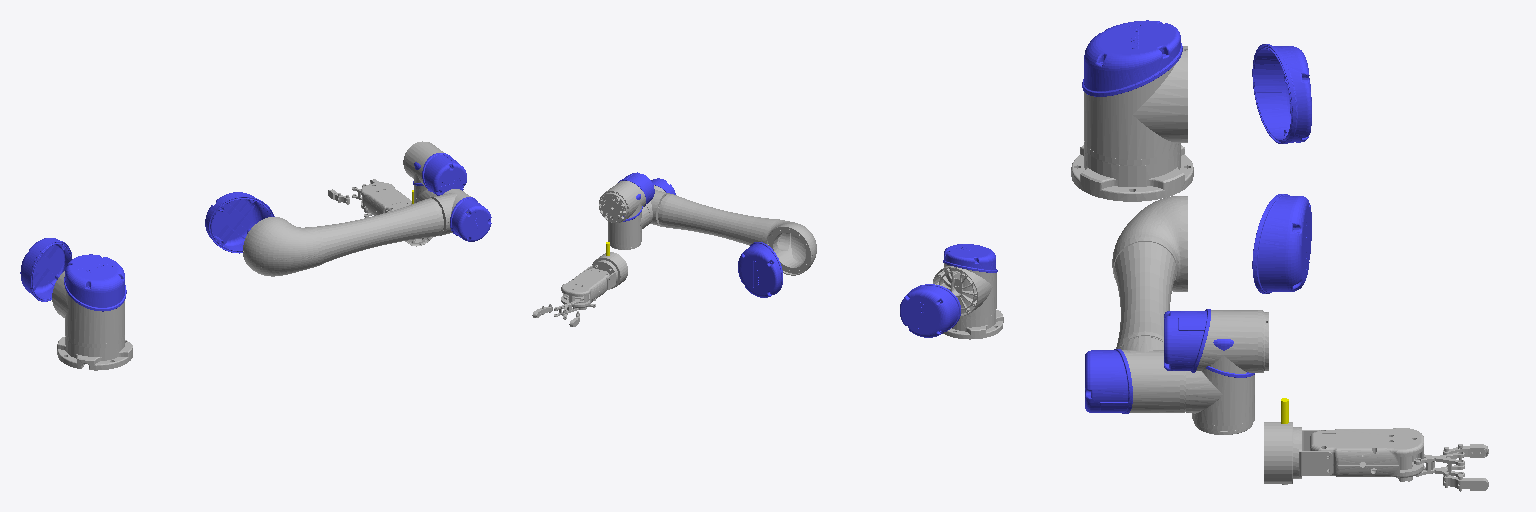
--- Facts derived from the render (not from the file) ---
3 views of the same robot in one strip: view 1: azimuth 30°, elevation 25°; view 2: azimuth 150°, elevation 25°; view 3: azimuth 270°, elevation 25° (orthographic).
Robot: gcr5g_description — 20 links, 19 joints (12 revolute, 7 fixed); root link base_link; default pose: all joints at 0.
Visible links, largest first — view 1: Link3, Link2_1, Link1_1, Link1, base_link, Link5_1, Link3_1, Link_gripper, Link5; view 2: Link3, Link2_1, Link1, Link_gripper, Link5, Link1_1, Link4, base_link; view 3: Link3, Link2_1, Link1, Link_gripper, Link1_1, base_link, Link5, Link4, Link3_1, Link5_1, Link6, Link_gripper1_1.
Boxes of the visible links, x1,y1,x2,y2 form: Link3: (243, 189, 470, 276); Link2_1: (20, 192, 274, 301); Link1_1: (64, 254, 126, 311); Link1: (52, 271, 124, 347); base_link: (57, 336, 132, 370); Link5_1: (422, 153, 466, 195); Link3_1: (450, 197, 491, 241); Link_gripper: (361, 182, 411, 215); Link5: (403, 141, 443, 193); Link3: (646, 185, 816, 275); Link2_1: (738, 242, 960, 337); Link1: (933, 263, 996, 319); Link_gripper: (561, 261, 615, 307); Link5: (599, 181, 645, 224); Link1_1: (943, 244, 997, 272); Link4: (608, 206, 649, 249); base_link: (943, 310, 1003, 339); Link3: (1112, 196, 1187, 412); Link2_1: (1252, 44, 1311, 293); Link1: (1084, 46, 1187, 165); Link_gripper: (1299, 427, 1423, 478); Link1_1: (1082, 20, 1182, 96); base_link: (1071, 145, 1193, 201); Link5: (1196, 310, 1268, 388); Link4: (1186, 369, 1254, 434); Link3_1: (1085, 349, 1132, 413); Link5_1: (1164, 309, 1210, 372); Link6: (1264, 422, 1298, 484); Link_gripper1_1: (1443, 472, 1488, 491).
Size in the robot's own frame: 0.9419 by 0.5014 by 0.228 metres.
Meshes: 19 distinct files referenced, 18 mesh visuals loaded (18 binary STL); not drawn: 1 (reference not matched to a file when rendering).

The robot description file, URDF, robot "gcr5g_description":
<robot
  name="gcr5g_description">
  <link
    name="base_link">
    <inertial>
      <origin
        xyz="0.000635038987172991 0.00052842091907003 0.0145511209757988"
        rpy="0 0 0" />
      <mass
        value="0.235469441856734" />
      <inertia
        ixx="0.000394110583521865"
        ixy="5.7514077247959E-06"
        ixz="1.60882204474908E-06"
        iyy="0.000393537993397388"
        iyz="1.54559410876959E-06"
        izz="0.000750439148761956" />
    </inertial>
    <visual>
      <origin
        xyz="0 0 0"
        rpy="0 0 0" />
      <geometry>
        <mesh
          filename="package://gcr5g_description/meshes/base_link.STL" />
      </geometry>
      <material
        name="">
        <color
          rgba="0.752941176470588 0.752941176470588 0.752941176470588 1" />
      </material>
    </visual>
    <collision>
      <origin
        xyz="0 0 0"
        rpy="0 0 0" />
      <geometry>
        <mesh
          filename="package://gcr5g_description/meshes/base_link.STL" />
      </geometry>
    </collision>
  </link>
  <link
    name="Link1">
    <inertial>
      <origin
        xyz="-2.29833441372716E-05 0.00939807572647894 -0.0223184970920699"
        rpy="0 0 0" />
      <mass
        value="0.287809595237489" />
      <inertia
        ixx="0.00071606792500991"
        ixy="1.00641855398766E-08"
        ixz="9.18285135267826E-08"
        iyy="0.000722346959753427"
        iyz="-8.34715505244834E-05"
        izz="0.000757341762974166" />
    </inertial>
    <visual>
      <origin
        xyz="0 0 0"
        rpy="0 0 0" />
      <geometry>
        <mesh
          filename="package://gcr5g_description/meshes/Link1.STL" />
      </geometry>
      <material
        name="">
        <color
          rgba="0.752941176470588 0.752941176470588 0.752941176470588 1" />
      </material>
    </visual>
    <collision>
      <origin
        xyz="0 0 0"
        rpy="0 0 0" />
      <geometry>
        <mesh
          filename="package://gcr5g_description/meshes/Link1.STL" />
      </geometry>
    </collision>
  </link>
  <joint
    name="Joint1"
    type="revolute">
    <origin
      xyz="0 0 0.10844"
      rpy="0 0 0" />
    <parent
      link="base_link" />
    <child
      link="Link1" />
    <axis
      xyz="0 0 1" />
    <limit
      lower="-3"
      upper="3"
      effort="1"
      velocity="1" />
  </joint>
  <link
    name="Link2">
    <inertial>
      <origin
        xyz="0.212537552875923 -0.01470428645145 1.98361437159233E-06"
        rpy="0 0 0" />
      <mass
        value="0.873895143425123" />
      <inertia
        ixx="0.00205601287417751"
        ixy="1.8943379594929E-07"
        ixz="-2.67099592179899E-06"
        iyy="0.0291535555543656"
        iyz="4.7328418872632E-07"
        izz="0.0291693793399745" />
    </inertial>
    <visual>
      <origin
        xyz="0 0 0"
        rpy="0 0 0" />
      <geometry>
        <mesh
          filename="package://gcr5g_description/meshes/Link2.STL" />
      </geometry>
      <material
        name="">
        <color
          rgba="0.752941176470588 0.752941176470588 0.752941176470588 1" />
      </material>
    </visual>
    <collision>
      <origin
        xyz="0 0 0"
        rpy="0 0 0" />
      <geometry>
        <mesh
          filename="package://gcr5g_description/meshes/Link2.STL" />
      </geometry>
    </collision>
  </link>
  <joint
    name="Joint2"
    type="revolute">
    <origin
      xyz="0 0.1348 0"
      rpy="0 0 0" />
    <parent
      link="Link1" />
    <child
      link="Link2" />
    <axis
      xyz="0 1 0" />
    <limit
      lower="-3.5"
      upper="0.5"
      effort="0"
      velocity="0" />
  </joint>
  <link
    name="Link3">
    <inertial>
      <origin
        xyz="0.161898898549927 -0.111669374007534 -4.78702954956334E-06"
        rpy="0 0 0" />
      <mass
        value="0.63535804916724" />
      <inertia
        ixx="0.000830792154033419"
        ixy="0.000174258514667893"
        ixz="3.2010453240521E-08"
        iyy="0.0165536506287756"
        iyz="1.89430598344166E-07"
        izz="0.0164555364531943" />
    </inertial>
    <visual>
      <origin
        xyz="0 0 0"
        rpy="0 0 0" />
      <geometry>
        <mesh
          filename="package://gcr5g_description/meshes/Link3.STL" />
      </geometry>
      <material
        name="">
        <color
          rgba="0.752941176470588 0.752941176470588 0.752941176470588 1" />
      </material>
    </visual>
    <collision>
      <origin
        xyz="0 0 0"
        rpy="0 0 0" />
      <geometry>
        <mesh
          filename="package://gcr5g_description/meshes/Link3.STL" />
      </geometry>
    </collision>
  </link>
  <joint
    name="Joint3"
    type="revolute">
    <origin
      xyz="0.4251 0 0"
      rpy="0 0 0" />
    <parent
      link="Link2" />
    <child
      link="Link3" />
    <axis
      xyz="0 1 0" />
    <limit
      lower="-3"
      upper="3"
      effort="1"
      velocity="1" />
  </joint>
  <link
    name="Link4">
    <inertial>
      <origin
        xyz="3.79998164479201E-06 0.0669441816664544 -0.0138821420778474"
        rpy="0 0 0" />
      <mass
        value="0.120753251857373" />
      <inertia
        ixx="0.000143656697936511"
        ixy="-3.38738120860365E-07"
        ixz="1.05158778757901E-08"
        iyy="0.000141455509049759"
        iyz="1.28676293739486E-05"
        izz="0.000134599166244764" />
    </inertial>
    <visual>
      <origin
        xyz="0 0 0"
        rpy="0 0 0" />
      <geometry>
        <mesh
          filename="package://gcr5g_description/meshes/Link4.STL" />
      </geometry>
      <material
        name="">
        <color
          rgba="0.752941176470588 0.752941176470588 0.752941176470588 1" />
      </material>
    </visual>
    <collision>
      <origin
        xyz="0 0 0"
        rpy="0 0 0" />
      <geometry>
        <mesh
          filename="package://gcr5g_description/meshes/Link4.STL" />
      </geometry>
    </collision>
  </link>
  <joint
    name="Joint4"
    type="revolute">
    <origin
      xyz="0.3919 -0.09865 0"
      rpy="0 0 0" />
    <parent
      link="Link3" />
    <child
      link="Link4" />
    <axis
      xyz="0 1 0" />
    <limit
      lower="-3.5"
      upper="0.5"
      effort="1"
      velocity="1" />
  </joint>
  <link
    name="Link5">
    <inertial>
      <origin
        xyz="-3.79997911126306E-06 0.0138821420824871 -0.0669441816786919"
        rpy="0 0 0" />
      <mass
        value="0.120753251793781" />
      <inertia
        ixx="0.000143656697905757"
        ixy="1.05158805956512E-08"
        ixz="-3.38738128716387E-07"
        iyy="0.00013459916620674"
        iyz="1.28676293614767E-05"
        izz="0.000141455509055265" />
    </inertial>
    <visual>
      <origin
        xyz="0 0 0"
        rpy="0 0 0" />
      <geometry>
        <mesh
          filename="package://gcr5g_description/meshes/Link5.STL" />
      </geometry>
      <material
        name="">
        <color
          rgba="0.752941176470588 0.752941176470588 0.752941176470588 1" />
      </material>
    </visual>
    <collision>
      <origin
        xyz="0 0 0"
        rpy="0 0 0" />
      <geometry>
        <mesh
          filename="package://gcr5g_description/meshes/Link5.STL" />
      </geometry>
    </collision>
  </link>
  <joint
    name="Joint5"
    type="revolute">
    <origin
      xyz="0 0.0735 -0.02085"
      rpy="0 0 0" />
    <parent
      link="Link4" />
    <child
      link="Link5" />
    <axis
      xyz="0 0 -1" />
    <limit
      lower="-3"
      upper="3"
      effort="1"
      velocity="1" />
  </joint>
  <link
    name="Link6">
    <inertial>
      <origin
        xyz="1.70650246711368E-07 0.0539301921218914 -0.000380624684435211"
        rpy="0 0 0" />
      <mass
        value="0.0609840111314345" />
      <inertia
        ixx="3.68176978978095E-05"
        ixy="-1.13212456335131E-12"
        ixz="-3.27208649021208E-11"
        iyy="5.71665840541626E-05"
        iyz="-2.34259828291095E-07"
        izz="3.63883679831058E-05" />
    </inertial>
    <visual>
      <origin
        xyz="0 0 0"
        rpy="0 0 0" />
      <geometry>
        <mesh
          filename="package://gcr5g_description/meshes/Link6.STL" />
      </geometry>
      <material
        name="">
        <color
          rgba="0.752941176470588 0.752941176470588 0.752941176470588 1" />
      </material>
    </visual>
    <collision>
      <origin
        xyz="0 0 0"
        rpy="0 0 0" />
      <geometry>
        <mesh
          filename="package://gcr5g_description/meshes/Link6.STL" />
      </geometry>
    </collision>
  </link>
  <link name="link_line">
    <visual>
      <origin rpy="0 0 0" xyz=" 0 0 0"/>
      <geometry>
        <cylinder length="0.03" radius="0.005"/>
      </geometry>
      <material name="blue">
        <color rgba="1 1 0 1" />
      </material>
    </visual>
    <collision>
      <origin rpy="0 0 0" xyz=" 0 0 0"/>
      <geometry>
        <box size="0.005 0.005 0.03"/>
      </geometry>
    </collision>
    <inertial>
      <origin xyz="0 0 0" rpy="0 0 0"/>
      <mass value="1"/>
      <inertia
				ixx="0.3342" ixy="0.0" ixz="0.0"
				iyy="0.3342" iyz="0.0"
				izz="0.0017"/>			
    </inertial>
  </link>
  <joint
    name="Joint_line"
    type="fixed">
    <origin
      xyz="0 0.0525 0.055"
      rpy="0 0 0" />
    <parent
      link="Link6" />
    <child
      link="link_line" />
  </joint>
  <joint
    name="Joint6"
    type="revolute">
    <origin
      xyz="0 0.02085 -0.0735"
      rpy="0 0 0" />
    <parent
      link="Link5" />
    <child
      link="Link6" />
    <axis
      xyz="0 1 0" />
    <limit
      lower="-3"
      upper="3"
      effort="1"
      velocity="1" />
  </joint>
  <link
    name="Link_gripper">
    <inertial>
      <origin
        xyz="-0.000793568003006229 0.14615552151135 1.76001653658421E-05"
        rpy="0 0 0" />
      <mass
        value="0.149482836163735" />
      <inertia
        ixx="0.000311880808431645"
        ixy="4.14828346027179E-07"
        ixz="4.90573612438096E-07"
        iyy="8.76595177207867E-05"
        iyz="1.3425253335016E-07"
        izz="0.000341383122308987" />
    </inertial>
    <visual>
      <origin
        xyz="0 0 0"
        rpy="0 0 0" />
      <geometry>
        <mesh
          filename="package://gcr5g_description/meshes/Link_gripper.STL" />
      </geometry>
      <material
        name="">
        <color
          rgba="0.752941176470588 0.752941176470588 0.752941176470588 1" />
      </material>
    </visual>
    <collision>
      <origin
        xyz="0 0 0"
        rpy="0 0 0" />
      <geometry>
        <mesh
          filename="package://gcr5g_description/meshes/Link_gripper.STL" />
      </geometry>
    </collision>
  </link>
  <joint
    name="Joint_gripper"
    type="fixed">
    <origin
      xyz="0 0 0"
      rpy="0 0 0" />
    <parent
      link="Link6" />
    <child
      link="Link_gripper" />
    <axis
      xyz="0 0 0" />
  </joint>
  <link
    name="Link_gripper1">
    <inertial>
      <origin
        xyz="0.00501458682842326 0.0129905416241217 0.00830000223116439"
        rpy="0 0 0" />
      <mass
        value="0.00770136927180468" />
      <inertia
        ixx="2.70199630479076E-06"
        ixy="-9.22317780806694E-07"
        ixz="7.32574042723678E-13"
        iyy="8.80119957709075E-07"
        iyz="-5.01751864570229E-13"
        izz="2.8787832581864E-06" />
    </inertial>
    <visual>
      <origin
        xyz="0 0 0"
        rpy="0 0 0" />
      <geometry>
        <mesh
          filename="package://gcr5g_description/meshes/Link_gripper1.STL" />
      </geometry>
      <material
        name="">
        <color
          rgba="0.752941176470588 0.752941176470588 0.752941176470588 1" />
      </material>
    </visual>
    <collision>
      <origin
        xyz="0 0 0"
        rpy="0 0 0" />
      <geometry>
        <mesh
          filename="package://gcr5g_description/meshes/Link_gripper1.STL" />
      </geometry>
    </collision>
  </link>
  <joint
    name="Joint_gripper1"
    type="revolute">
    <origin
      xyz="0.0163 0.19555 -0.0083"
      rpy="0 0 0" />
    <parent
      link="Link_gripper" />
    <child
      link="Link_gripper1" />
    <axis
      xyz="0 0 1" />
    <limit
      lower="-0.35"
      upper="0.35"
      effort="1"
      velocity="1" />
  </joint>
  <link
    name="Link_gripper1_1">
    <inertial>
      <origin
        xyz="-0.022488743514532 -0.0081742813367448 0.0098852244611465"
        rpy="0 0 0" />
      <mass
        value="0.00588778350213335" />
      <inertia
        ixx="2.50492828022574E-07"
        ixy="-3.70699284902475E-07"
        ixz="1.55513399716011E-08"
        iyy="1.50021376058038E-06"
        iyz="4.14114994655371E-09"
        izz="1.55745563663569E-06" />
    </inertial>
    <visual>
      <origin
        xyz="0 0 0"
        rpy="0 0 0" />
      <geometry>
        <mesh
          filename="package://gcr5g_description/meshes/Link_gripper1_1.STL" />
      </geometry>
      <material
        name="">
        <color
          rgba="0.752941176470588 0.752941176470588 0.752941176470588 1" />
      </material>
    </visual>
    <collision>
      <origin
        xyz="0 0 0"
        rpy="0 0 0" />
      <geometry>
        <mesh
          filename="package://gcr5g_description/meshes/Link_gripper1_1.STL" />
      </geometry>
    </collision>
  </link>
  <joint
    name="Joint_gripper1_1"
    type="revolute">
    <origin
      xyz="0.01893 0.05164 -0.0017"
      rpy="0 0 -1.5708" />
    <parent
      link="Link_gripper1" />
    <child
      link="Link_gripper1_1" />
    <axis
      xyz="0 0 1" />
    <limit
      lower="-0.35"
      upper="0.35"
      effort="1"
      velocity="1" />
		<mimic
			joint ="Joint_gripper1"
			multiplier="-1"
			offset="0"/>
  </joint>
  <link
    name="Link_gripper2">
    <inertial>
      <origin
        xyz="-0.0206769022168571 0.00759969192184873 0.00808102054231884"
        rpy="0 0 0" />
      <mass
        value="0.0039532133064862" />
      <inertia
        ixx="3.83200073413275E-07"
        ixy="4.85378372767622E-07"
        ixz="-6.6236447207852E-09"
        iyy="1.53441439283601E-06"
        iyz="2.43417781458427E-09"
        izz="1.54053017242147E-06" />
    </inertial>
    <visual>
      <origin
        xyz="0 0 0"
        rpy="0 0 0" />
      <geometry>
        <mesh
          filename="package://gcr5g_description/meshes/Link_gripper2.STL" />
      </geometry>
      <material
        name="">
        <color
          rgba="0.752941176470588 0.752941176470588 0.752941176470588 1" />
      </material>
    </visual>
    <collision>
      <origin
        xyz="0 0 0"
        rpy="0 0 0" />
      <geometry>
        <mesh
          filename="package://gcr5g_description/meshes/Link_gripper2.STL" />
      </geometry>
    </collision>
  </link>
  <joint
    name="Joint_gripper2"
    type="revolute">
    <origin
      xyz="0.00738 0.21232 -0.008"
      rpy="0 0 -1.5708" />
    <parent
      link="Link_gripper" />
    <child
      link="Link_gripper2" />
    <axis
      xyz="0 0 1" />
    <limit
      lower="-0.35"
      upper="0.35"
      effort="1"
      velocity="1" />
		<mimic
			joint ="Joint_gripper1"
			multiplier="1"
			offset="0"/>
  </joint>
  <link
    name="Link_gripper3">
    <inertial>
      <origin
        xyz="-0.0129905416241216 -0.00501458682842315 0.00829999776879848"
        rpy="0 0 0" />
      <mass
        value="0.0077013692718047" />
      <inertia
        ixx="8.80119957709077E-07"
        ixy="-9.22317780806695E-07"
        ixz="-5.01751865434528E-13"
        iyy="2.70199630479077E-06"
        iyz="7.32574042822972E-13"
        izz="2.87878325818641E-06" />
    </inertial>
    <visual>
      <origin
        xyz="0 0 0"
        rpy="0 0 0" />
      <geometry>
        <mesh
          filename="package://gcr5g_description/meshes/Link_gripper3.STL" />
      </geometry>
      <material
        name="">
        <color
          rgba="0.752941176470588 0.752941176470588 0.752941176470588 1" />
      </material>
    </visual>
    <collision>
      <origin
        xyz="0 0 0"
        rpy="0 0 0" />
      <geometry>
        <mesh
          filename="package://gcr5g_description/meshes/Link_gripper3.STL" />
      </geometry>
    </collision>
  </link>
  <joint
    name="Joint_gripper3"
    type="revolute">
    <origin
      xyz="-0.0167 0.19555 -0.0083"
      rpy="0 0 -1.5708" />
    <parent
      link="Link_gripper" />
    <child
      link="Link_gripper3" />
    <axis
      xyz="0 0 1" />
    <limit
      lower="-0.35"
      upper="0.35"
      effort="1"
      velocity="1" />
		<mimic
			joint ="Joint_gripper1"
			multiplier="-1"
			offset="0"/>
  </joint>
  <link
    name="Link_gripper3_1">
    <inertial>
      <origin
        xyz="-0.0224887435145321 0.00817428122577157 0.00988520699145941"
        rpy="0 0 0" />
      <mass
        value="0.00588778350213328" />
      <inertia
        ixx="2.50492800230748E-07"
        ixy="3.7069929614721E-07"
        ixz="1.55540068324961E-08"
        iyy="1.50021372793479E-06"
        iyz="-4.14185807442237E-09"
        izz="1.55745564148942E-06" />
    </inertial>
    <visual>
      <origin
        xyz="0 0 0"
        rpy="0 0 0" />
      <geometry>
        <mesh
          filename="package://gcr5g_description/meshes/Link_gripper3_1.STL" />
      </geometry>
      <material
        name="">
        <color
          rgba="0.752941176470588 0.752941176470588 0.752941176470588 1" />
      </material>
    </visual>
    <collision>
      <origin
        xyz="0 0 0"
        rpy="0 0 0" />
      <geometry>
        <mesh
          filename="package://gcr5g_description/meshes/Link_gripper3_1.STL" />
      </geometry>
    </collision>
  </link>
  <joint
    name="Joint_gripper3_1"
    type="revolute">
    <origin
      xyz="-0.05164 -0.01893 -0.0017"
      rpy="0 0 0" />
    <parent
      link="Link_gripper3" />
    <child
      link="Link_gripper3_1" />
    <axis
      xyz="0 0 1" />
    <limit
      lower="-0.35"
      upper="0.35"
      effort="1"
      velocity="1" />
		<mimic
			joint ="Joint_gripper1"
			multiplier="1"
			offset="0"/>
  </joint>
  <link
    name="Link_gripper4">
    <inertial>
      <origin
        xyz="-0.0206898308966732 -0.00756442331308471 0.00808102054231875"
        rpy="0 0 0" />
      <mass
        value="0.00395321330648628" />
      <inertia
        ixx="3.85314556813653E-07"
        ixy="-4.87874899210029E-07"
        ixz="-6.62758616858511E-09"
        iyy="1.53229990943567E-06"
        iyz="-2.42342579795273E-09"
        izz="1.5405301724215E-06" />
    </inertial>
    <visual>
      <origin
        xyz="0 0 0"
        rpy="0 0 0" />
      <geometry>
        <mesh
          filename="package://gcr5g_description/meshes/Link_gripper4.STL" />
      </geometry>
      <material
        name="">
        <color
          rgba="0.752941176470588 0.752941176470588 0.752941176470588 1" />
      </material>
    </visual>
    <collision>
      <origin
        xyz="0 0 0"
        rpy="0 0 0" />
      <geometry>
        <mesh
          filename="package://gcr5g_description/meshes/Link_gripper4.STL" />
      </geometry>
    </collision>
  </link>
  <joint
    name="Joint_gripper4"
    type="revolute">
    <origin
      xyz="-0.00778 0.21232 -0.008"
      rpy="0 0 -1.5708" />
    <parent
      link="Link_gripper" />
    <child
      link="Link_gripper4" />
    <axis
      xyz="0 0 1" />
    <limit
      lower="-0.35"
      upper="0.35"
      effort="1"
      velocity="1" />
		<mimic
			joint ="Joint_gripper1"
			multiplier="-1"
			offset="0"/>
  </joint>
  <link
    name="Link5_1">
    <inertial>
      <origin
        xyz="3.88513615680042E-05 -0.0541490072803046 -0.0768898600766862"
        rpy="0 0 0" />
      <mass
        value="0.0375413118453432" />
      <inertia
        ixx="2.92698896125195E-05"
        ixy="-1.02647745485199E-08"
        ixz="-3.59674349018942E-07"
        iyy="4.08917134960347E-05"
        iyz="3.34967784686783E-06"
        izz="3.01812948967662E-05" />
    </inertial>
    <visual>
      <origin
        xyz="0 0 0"
        rpy="0 0 0" />
      <geometry>
        <mesh
          filename="package://gcr5g_description/meshes/Link5_1.STL" />
      </geometry>
      <material
        name="">
        <color
          rgba="0.352941176470588 0.352941176470588 1 1" />
      </material>
    </visual>
    <collision>
      <origin
        xyz="0 0 0"
        rpy="0 0 0" />
      <geometry>
        <mesh
          filename="package://gcr5g_description/meshes/Link5_1.STL" />
      </geometry>
    </collision>
  </link>
  <joint
    name="Joint5_1"
    type="fixed">
    <origin
      xyz="0 0 0"
      rpy="0 0 0" />
    <parent
      link="Link5" />
    <child
      link="Link5_1" />
    <axis
      xyz="0 0 0" />
  </joint>
  <link
    name="Link4_1">
    <inertial>
      <origin
        xyz="-3.88513552025405E-05 0.0768898600782905 0.0541490072843509"
        rpy="0 0 0" />
      <mass
        value="0.037541311850224" />
      <inertia
        ixx="2.92698896073094E-05"
        ixy="-3.59674351230326E-07"
        ixz="-1.02647768321916E-08"
        iyy="3.01812948963098E-05"
        iyz="3.34967784307818E-06"
        izz="4.08917135003024E-05" />
    </inertial>
    <visual>
      <origin
        xyz="0 0 0"
        rpy="0 0 0" />
      <geometry>
        <mesh
          filename="package://gcr5g_description/meshes/Link4_1.STL" />
      </geometry>
      <material
        name="">
        <color
          rgba="0.352941176470588 0.352941176470588 1 1" />
      </material>
    </visual>
    <collision>
      <origin
        xyz="0 0 0"
        rpy="0 0 0" />
      <geometry>
        <mesh
          filename="package://gcr5g_description/meshes/Link4_1.STL" />
      </geometry>
    </collision>
  </link>
  <joint
    name="Joint4_1"
    type="fixed">
    <origin
      xyz="0 0 0"
      rpy="0 0 0" />
    <parent
      link="Link4" />
    <child
      link="Link4_1" />
    <axis
      xyz="0 0 0" />
  </joint>
  <link
    name="Link3_1">
    <inertial>
      <origin
        xyz="0.395289860067801 -0.173649007279842 3.88513609000662E-05"
        rpy="0 0 0" />
      <mass
        value="0.0375413118311208" />
      <inertia
        ixx="3.01812948940384E-05"
        ixy="-3.34967784246531E-06"
        ixz="3.59674348757157E-07"
        iyy="4.08917134886904E-05"
        iyz="-1.02647753842231E-08"
        izz="2.92698895963743E-05" />
    </inertial>
    <visual>
      <origin
        xyz="0 0 0"
        rpy="0 0 0" />
      <geometry>
        <mesh
          filename="package://gcr5g_description/meshes/Link3_1.STL" />
      </geometry>
      <material
        name="">
        <color
          rgba="0.352941176470588 0.352941176470588 1 1" />
      </material>
    </visual>
    <collision>
      <origin
        xyz="0 0 0"
        rpy="0 0 0" />
      <geometry>
        <mesh
          filename="package://gcr5g_description/meshes/Link3_1.STL" />
      </geometry>
    </collision>
  </link>
  <joint
    name="Joint3_1"
    type="fixed">
    <origin
      xyz="0 0 0"
      rpy="0 0 0" />
    <parent
      link="Link3" />
    <child
      link="Link3_1" />
    <axis
      xyz="0 0 0" />
  </joint>
  <link
    name="Link2_1">
    <inertial>
      <origin
        xyz="0.212552282688768 0.0584481657529934 3.69328456706342E-11"
        rpy="0 0 0" />
      <mass
        value="0.150870904896271" />
      <inertia
        ixx="0.000222581079668353"
        ixy="-1.03060261537401E-12"
        ixz="2.08137401626795E-06"
        iyy="0.00748251815542206"
        iyz="-6.21808990794511E-14"
        izz="0.00734160439358453" />
    </inertial>
    <visual>
      <origin
        xyz="0 0 0"
        rpy="0 0 0" />
      <geometry>
        <mesh
          filename="package://gcr5g_description/meshes/Link2_1.STL" />
      </geometry>
      <material
        name="">
        <color
          rgba="0.352941176470588 0.352941176470588 1 1" />
      </material>
    </visual>
    <collision>
      <origin
        xyz="0 0 0"
        rpy="0 0 0" />
      <geometry>
        <mesh
          filename="package://gcr5g_description/meshes/Link2_1.STL" />
      </geometry>
    </collision>
  </link>
  <joint
    name="Joint2_1"
    type="fixed">
    <origin
      xyz="0 0 0"
      rpy="0 0 0" />
    <parent
      link="Link2" />
    <child
      link="Link2_1" />
    <axis
      xyz="0 0 0" />
  </joint>
  <link
    name="Link1_1">
    <inertial>
      <origin
        xyz="5.93099865830038E-05 -0.00476007097383296 0.0584481657498137"
        rpy="0 0 0" />
      <mass
        value="0.0754354524301621" />
      <inertia
        ixx="0.000108388702205924"
        ixy="6.84132403567906E-08"
        ixz="6.98151300713875E-08"
        iyy="0.00011129027384227"
        iyz="-2.45046345105298E-05"
        izz="0.000178845318157858" />
    </inertial>
    <visual>
      <origin
        xyz="0 0 0"
        rpy="0 0 0" />
      <geometry>
        <mesh
          filename="package://gcr5g_description/meshes/Link1_1.STL" />
      </geometry>
      <material
        name="">
        <color
          rgba="0.352941176470588 0.352941176470588 1 1" />
      </material>
    </visual>
    <collision>
      <origin
        xyz="0 0 0"
        rpy="0 0 0" />
      <geometry>
        <mesh
          filename="package://gcr5g_description/meshes/Link1_1.STL" />
      </geometry>
    </collision>
  </link>
  <joint
    name="Joint1_1"
    type="fixed">
    <origin
      xyz="0 0 0"
      rpy="0 0 0" />
    <parent
      link="Link1" />
    <child
      link="Link1_1" />
    <axis
      xyz="0 0 0" />
  </joint>
</robot>
